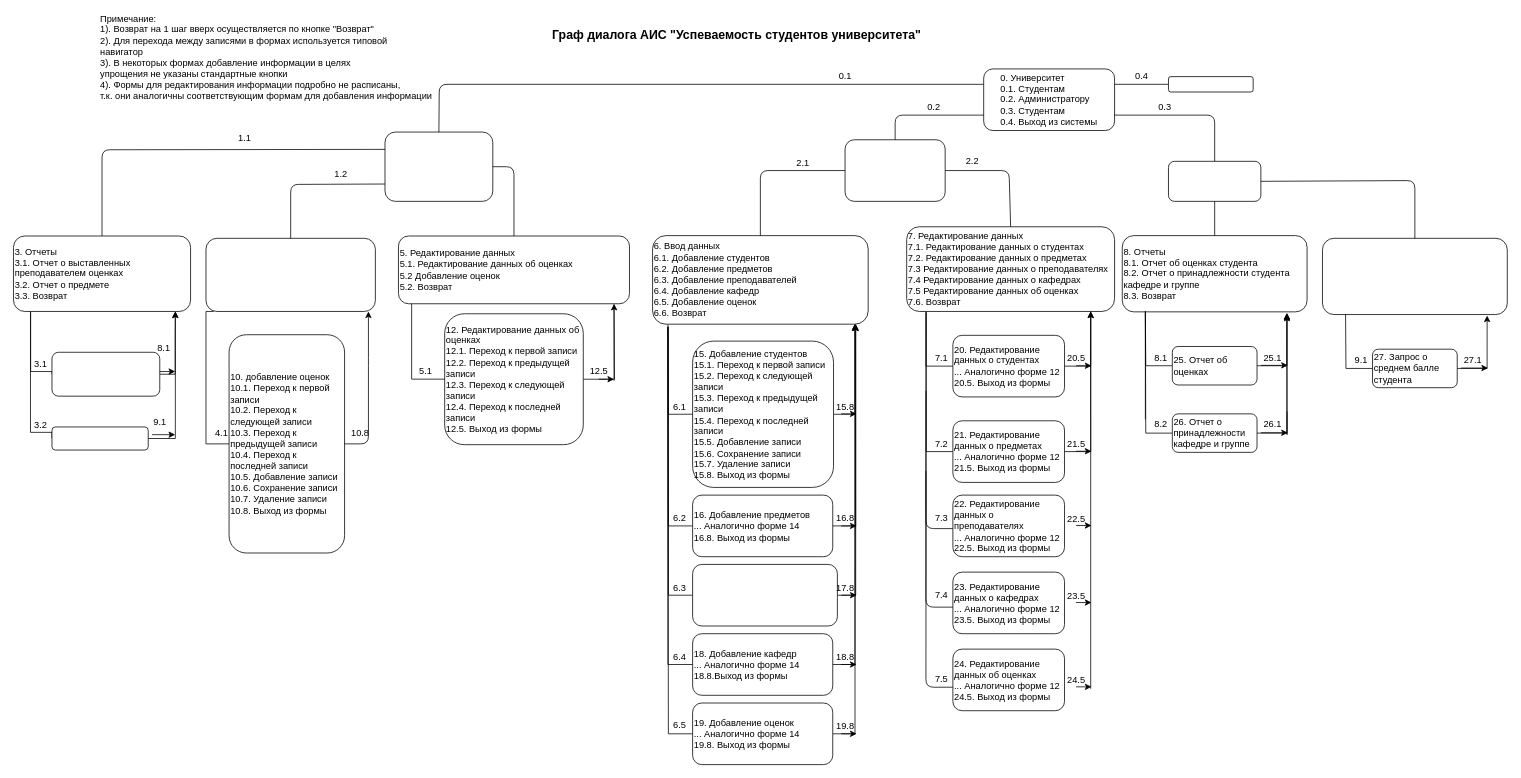
Image size: 1521x778. Some labels were removed from this diagram. Each missing label, with the centre of its shape:
"1. Преподавателям 1.1. Отчеты 1.2. Запросы 1.4. Возврат" goes at point 438,166.
"17. Добавление преподавателей ... Аналогично форме 14 17.8. Выход из формы" goes at point 764,595.
"2. Администратору 2.1. Ввод данных 2.2. Редактирование данных 2.3. Возврат" goes at point 894,170.
"3. Студент 3.1. Отчеты 3.2. Возврат" goes at point 1214,181.
"4. Ввод данных 4.1. Добавление оценок 4.2. Возврат" goes at point 290,274.
"8. Отчет о выставленных преподавателем оценках" goes at point 105,374.
"9. Запрос 9.1. Отчет о среднем балле студента 9.3. Возврат" goes at point 1414,276.
"9. Отчет о предмете" goes at point 99,438.
"Выход из системы" goes at point 1210,84.
